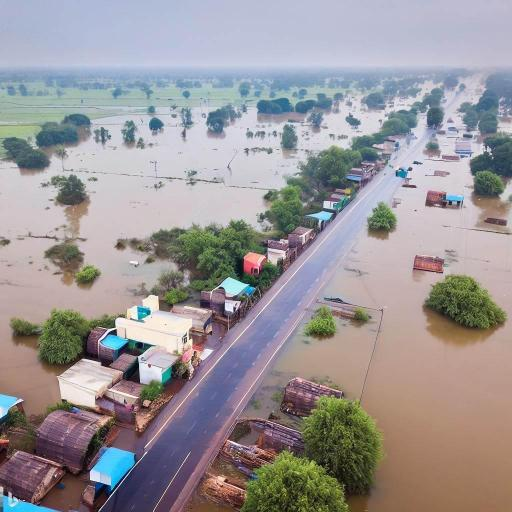flood: (0, 93, 422, 413), (324, 154, 512, 512), (246, 310, 382, 417), (460, 78, 482, 101), (440, 136, 456, 154), (450, 112, 462, 127), (474, 136, 485, 152), (501, 118, 512, 132), (424, 82, 434, 91)
house: (115, 293, 193, 360), (38, 404, 101, 476), (1, 448, 70, 509), (60, 360, 114, 416), (137, 340, 179, 390), (106, 377, 146, 427), (202, 282, 244, 321), (172, 302, 214, 338), (0, 389, 24, 444), (264, 236, 291, 269), (286, 222, 314, 248), (425, 191, 465, 207), (243, 250, 267, 276), (322, 196, 340, 210)
